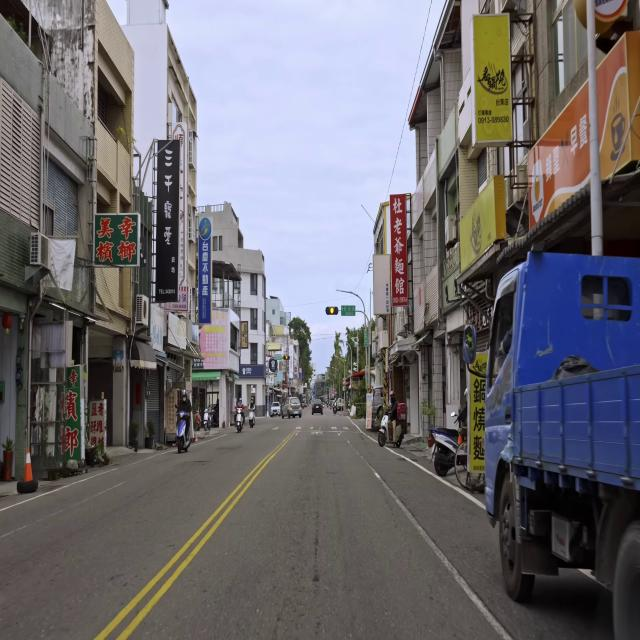yellow light: (326, 306, 338, 315), (283, 356, 290, 360)
